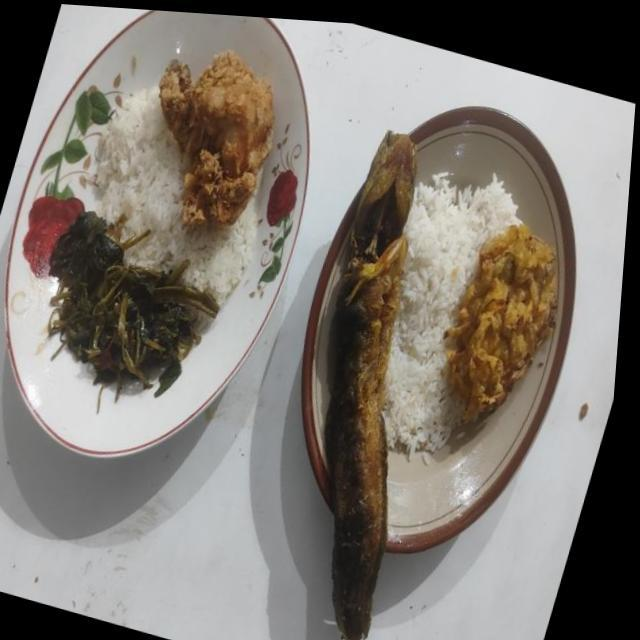nasi_putih: (382, 172, 520, 462), (94, 89, 257, 304)
tumis_kangkung: (48, 212, 219, 412)
